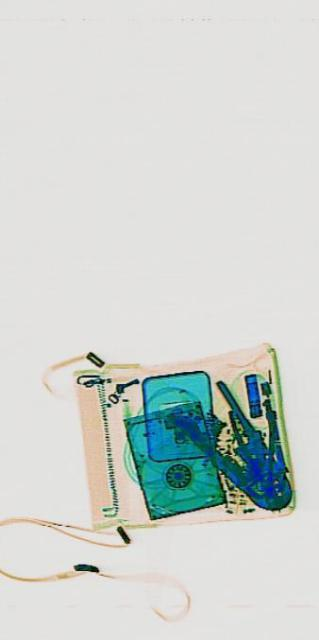Pliers: (175, 354, 298, 546)
